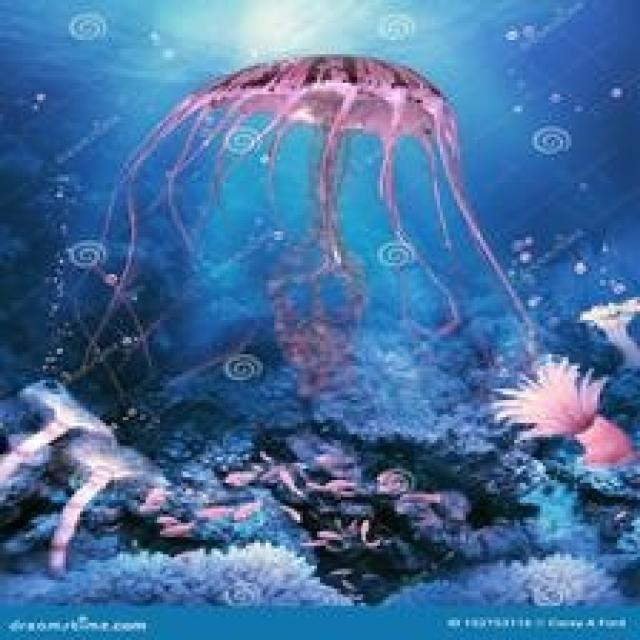Jellyfish: (60, 49, 543, 414)
